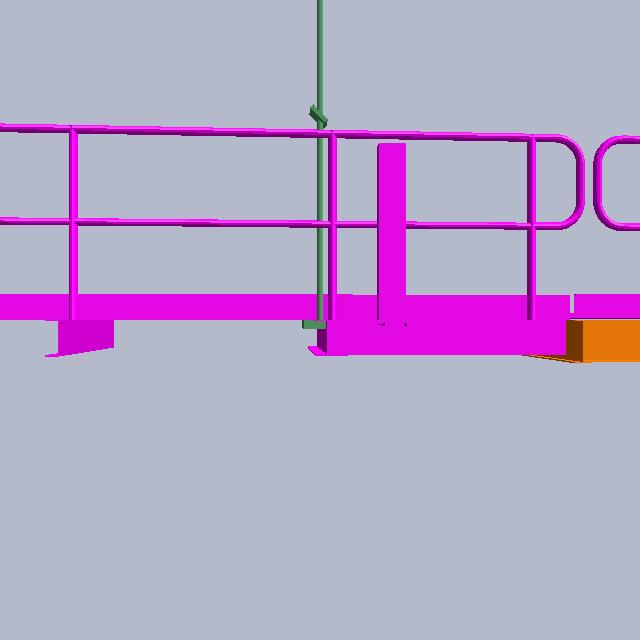Poste: (309, 1, 328, 333)
Soporte: (368, 141, 411, 349)
